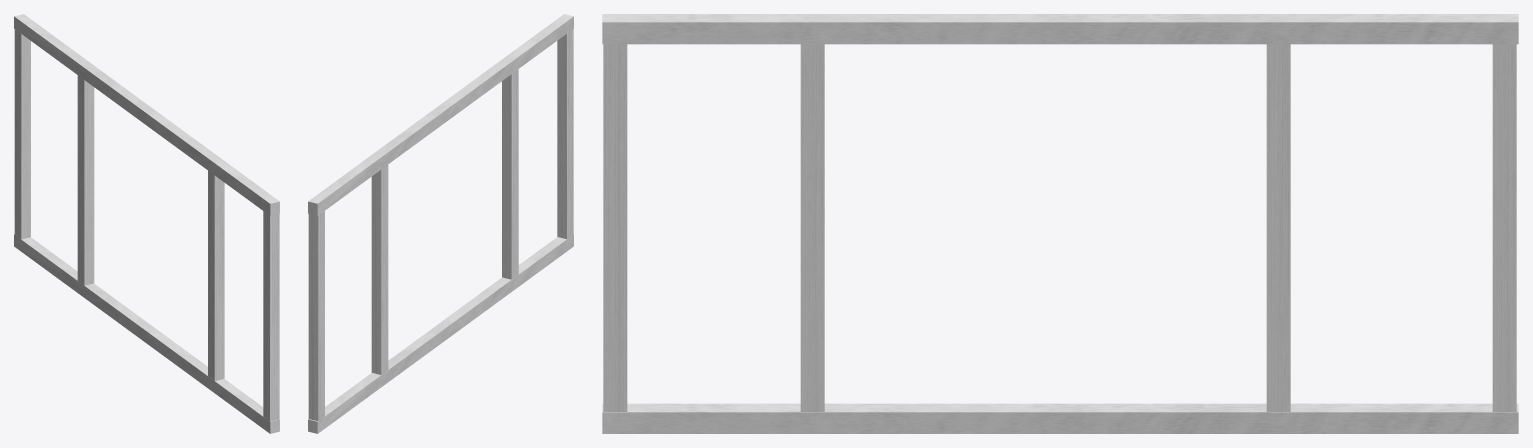
File: MarcoVentanaDelantera.obj
3 renders of one model, left to right at view 1: azimuth 30°, elevation 25°; view 2: azimuth 150°, elevation 25°; view 3: azimuth 270°, elevation 25°, orthographic. The views are drawn at different scales.
Parts seen in each view (by area): view 1: MarcoVentanaDelantera; view 2: MarcoVentanaDelantera; view 3: MarcoVentanaDelantera.
Part boxes in pixels (left/top/right/bottom): MarcoVentanaDelantera: left=14, top=14, right=279, bottom=433; MarcoVentanaDelantera: left=308, top=14, right=573, bottom=433; MarcoVentanaDelantera: left=602, top=14, right=1518, bottom=433.
Bounding box in the file's own units: 0.25 × 5.67 × 11.44.
Materials: 1 (1 with a texture image).
